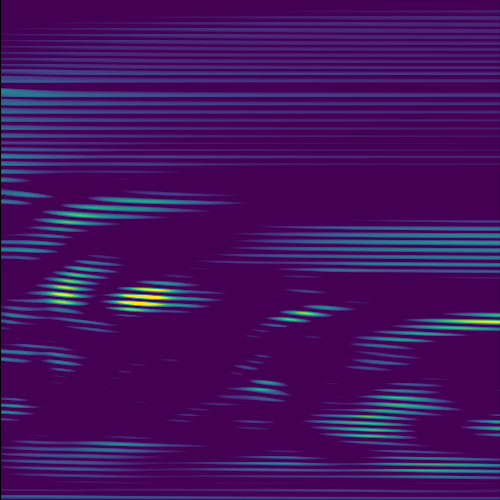semblance: (112, 279, 212, 320)
